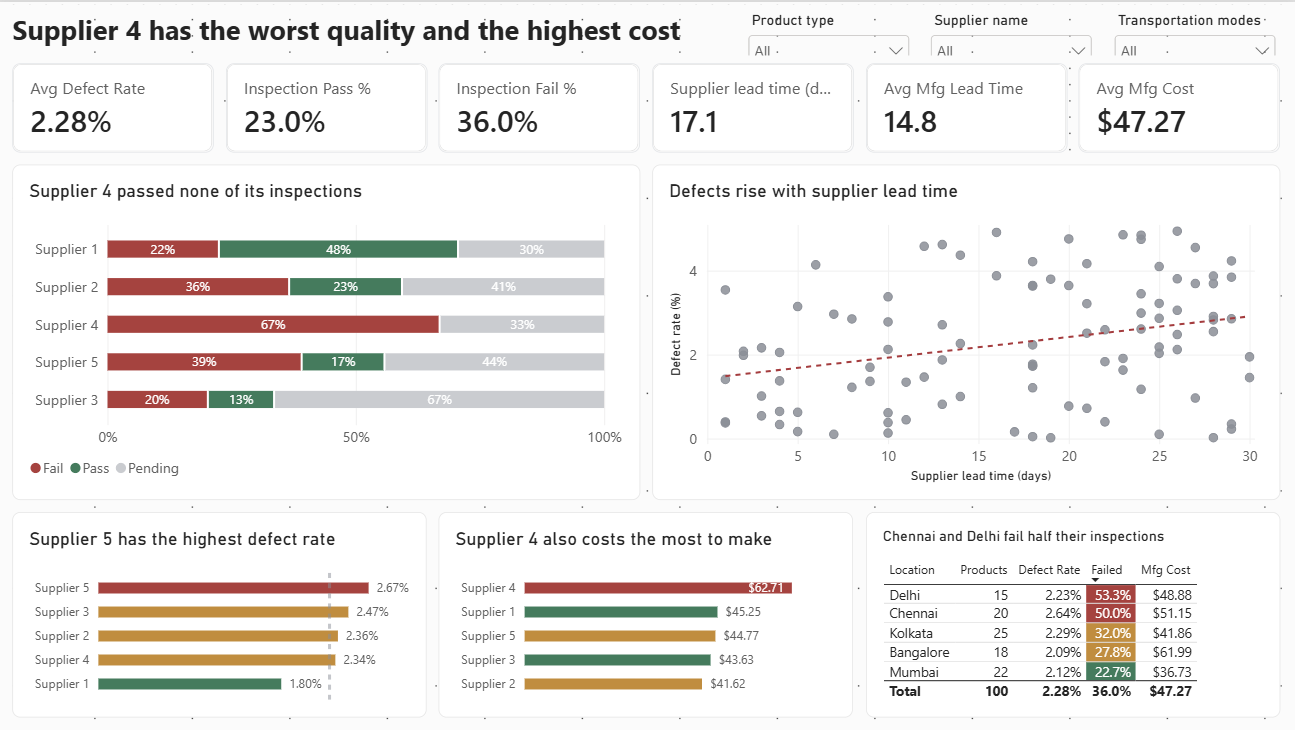

The dashboard page shown, as its layout file describes it:
{"tool":"powerbi","page":{"name":"Suppliers & Quality","canvas":[1280,720],"ordinal":1},"visuals":[{"type":"textbox","box":[16,8,700,44],"z":0},{"type":"slicer","fields":{"Values":["SupplyChain.Product type"]},"box":[736,8,168,44],"z":1000},{"type":"slicer","fields":{"Values":["SupplyChain.Supplier name"]},"box":[916,8,168,44],"z":2000},{"type":"slicer","fields":{"Values":["SupplyChain.Transportation modes"]},"box":[1096,8,168,44],"z":3000},{"type":"cardVisual","fields":{"Data":["_Measures.Avg Defect Rate"]},"box":[16,60,198,88],"z":4000},{"type":"cardVisual","fields":{"Data":["_Measures.Inspection Pass %"]},"box":[226,60,198,88],"z":5000},{"type":"cardVisual","fields":{"Data":["_Measures.Inspection Fail %"]},"box":[436,60,198,88],"z":6000},{"type":"cardVisual","fields":{"Data":["_Measures.Avg Mfg Lead Time"]},"box":[856,60,198,88],"z":7000},{"type":"cardVisual","fields":{"Data":["_Measures.Avg Supplier Lead Time"]},"box":[646,60,198,88],"z":8000},{"type":"cardVisual","fields":{"Data":["_Measures.Avg Mfg Cost"]},"box":[1066,60,198,88],"z":9000},{"type":"hundredPercentStackedBarChart","title":"Supplier 4 passed none of its inspections","fields":{"Category":["SupplyChain.Supplier name"],"Series":["SupplyChain.Inspection results"],"Y":["_Measures.SKU Count"]},"box":[16,160,618,330],"z":10000},{"type":"scatterChart","title":"Defects rise with supplier lead time","fields":{"Category":["SupplyChain.SKU"],"X":["Avg(SupplyChain.Supplier Lead Time)"],"Y":["SupplyChain.Defect rates"]},"box":[646,160,618,330],"z":11000},{"type":"clusteredBarChart","title":"Supplier 5 has the highest defect rate","fields":{"Category":["SupplyChain.Supplier name"],"Y":["_Measures.Avg Defect Rate"]},"box":[16,502,408,202],"z":12000},{"type":"clusteredBarChart","title":"Supplier 4 also costs the most to make","fields":{"Category":["SupplyChain.Supplier name"],"Y":["_Measures.Avg Mfg Cost"]},"box":[436,502,408,202],"z":13000},{"type":"tableEx","title":"Chennai and Delhi fail half their inspections","fields":{"Values":["SupplyChain.Location","_Measures.SKU Count","_Measures.Avg Defect Rate","_Measures.Inspection Fail %","_Measures.Avg Mfg Cost"]},"box":[856,502,408,202],"z":14000}]}

Visuals, with their boxes in screenshot pixels (x1, y1, x2, y2), scaled from the page's 1280x720 canvas onto the 1295x730 screenshot:
textbox: rect(16, 8, 724, 53)
slicer - SupplyChain.Product type: rect(745, 8, 915, 53)
slicer - SupplyChain.Supplier name: rect(927, 8, 1097, 53)
slicer - SupplyChain.Transportation modes: rect(1109, 8, 1279, 53)
cardVisual - _Measures.Avg Defect Rate: rect(16, 61, 217, 150)
cardVisual - _Measures.Inspection Pass %: rect(229, 61, 429, 150)
cardVisual - _Measures.Inspection Fail %: rect(441, 61, 641, 150)
cardVisual - _Measures.Avg Mfg Lead Time: rect(866, 61, 1066, 150)
cardVisual - _Measures.Avg Supplier Lead Time: rect(654, 61, 854, 150)
cardVisual - _Measures.Avg Mfg Cost: rect(1078, 61, 1279, 150)
"Supplier 4 passed none of its inspections" hundredPercentStackedBarChart: rect(16, 162, 641, 497)
"Defects rise with supplier lead time" scatterChart: rect(654, 162, 1279, 497)
"Supplier 5 has the highest defect rate" clusteredBarChart: rect(16, 509, 429, 714)
"Supplier 4 also costs the most to make" clusteredBarChart: rect(441, 509, 854, 714)
"Chennai and Delhi fail half their inspections" tableEx: rect(866, 509, 1279, 714)
